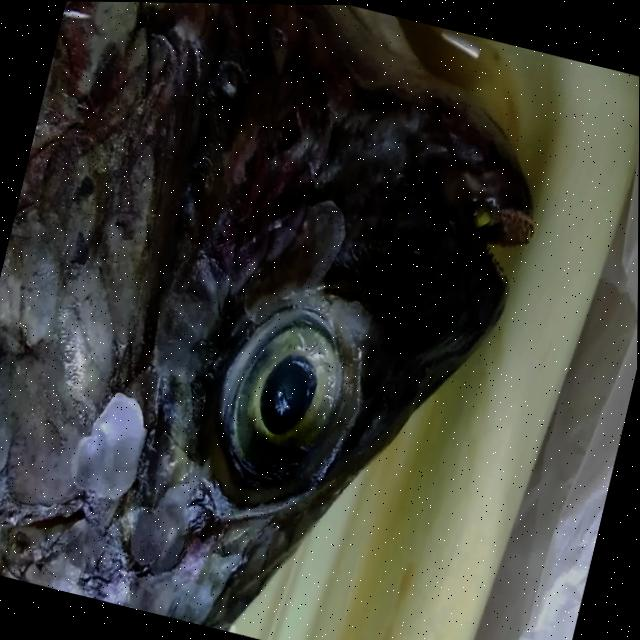Non-Fresh: (0, 0, 540, 631)
